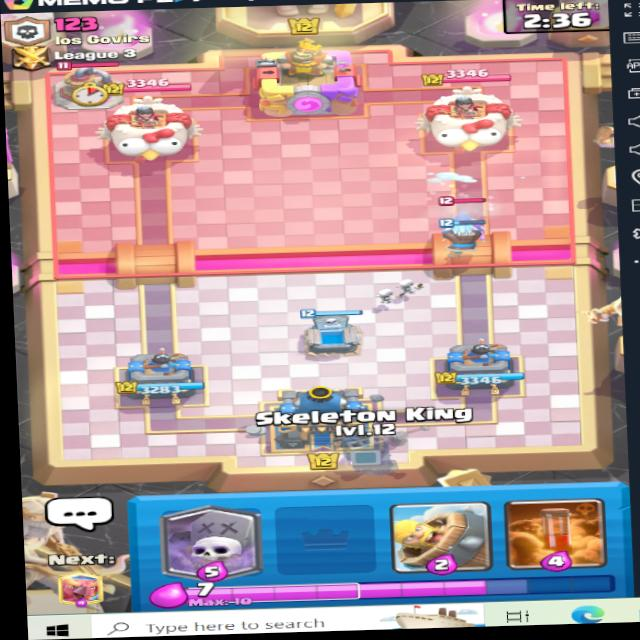bandit: (432, 197, 501, 233)
elixir-collector: (50, 63, 124, 111)
